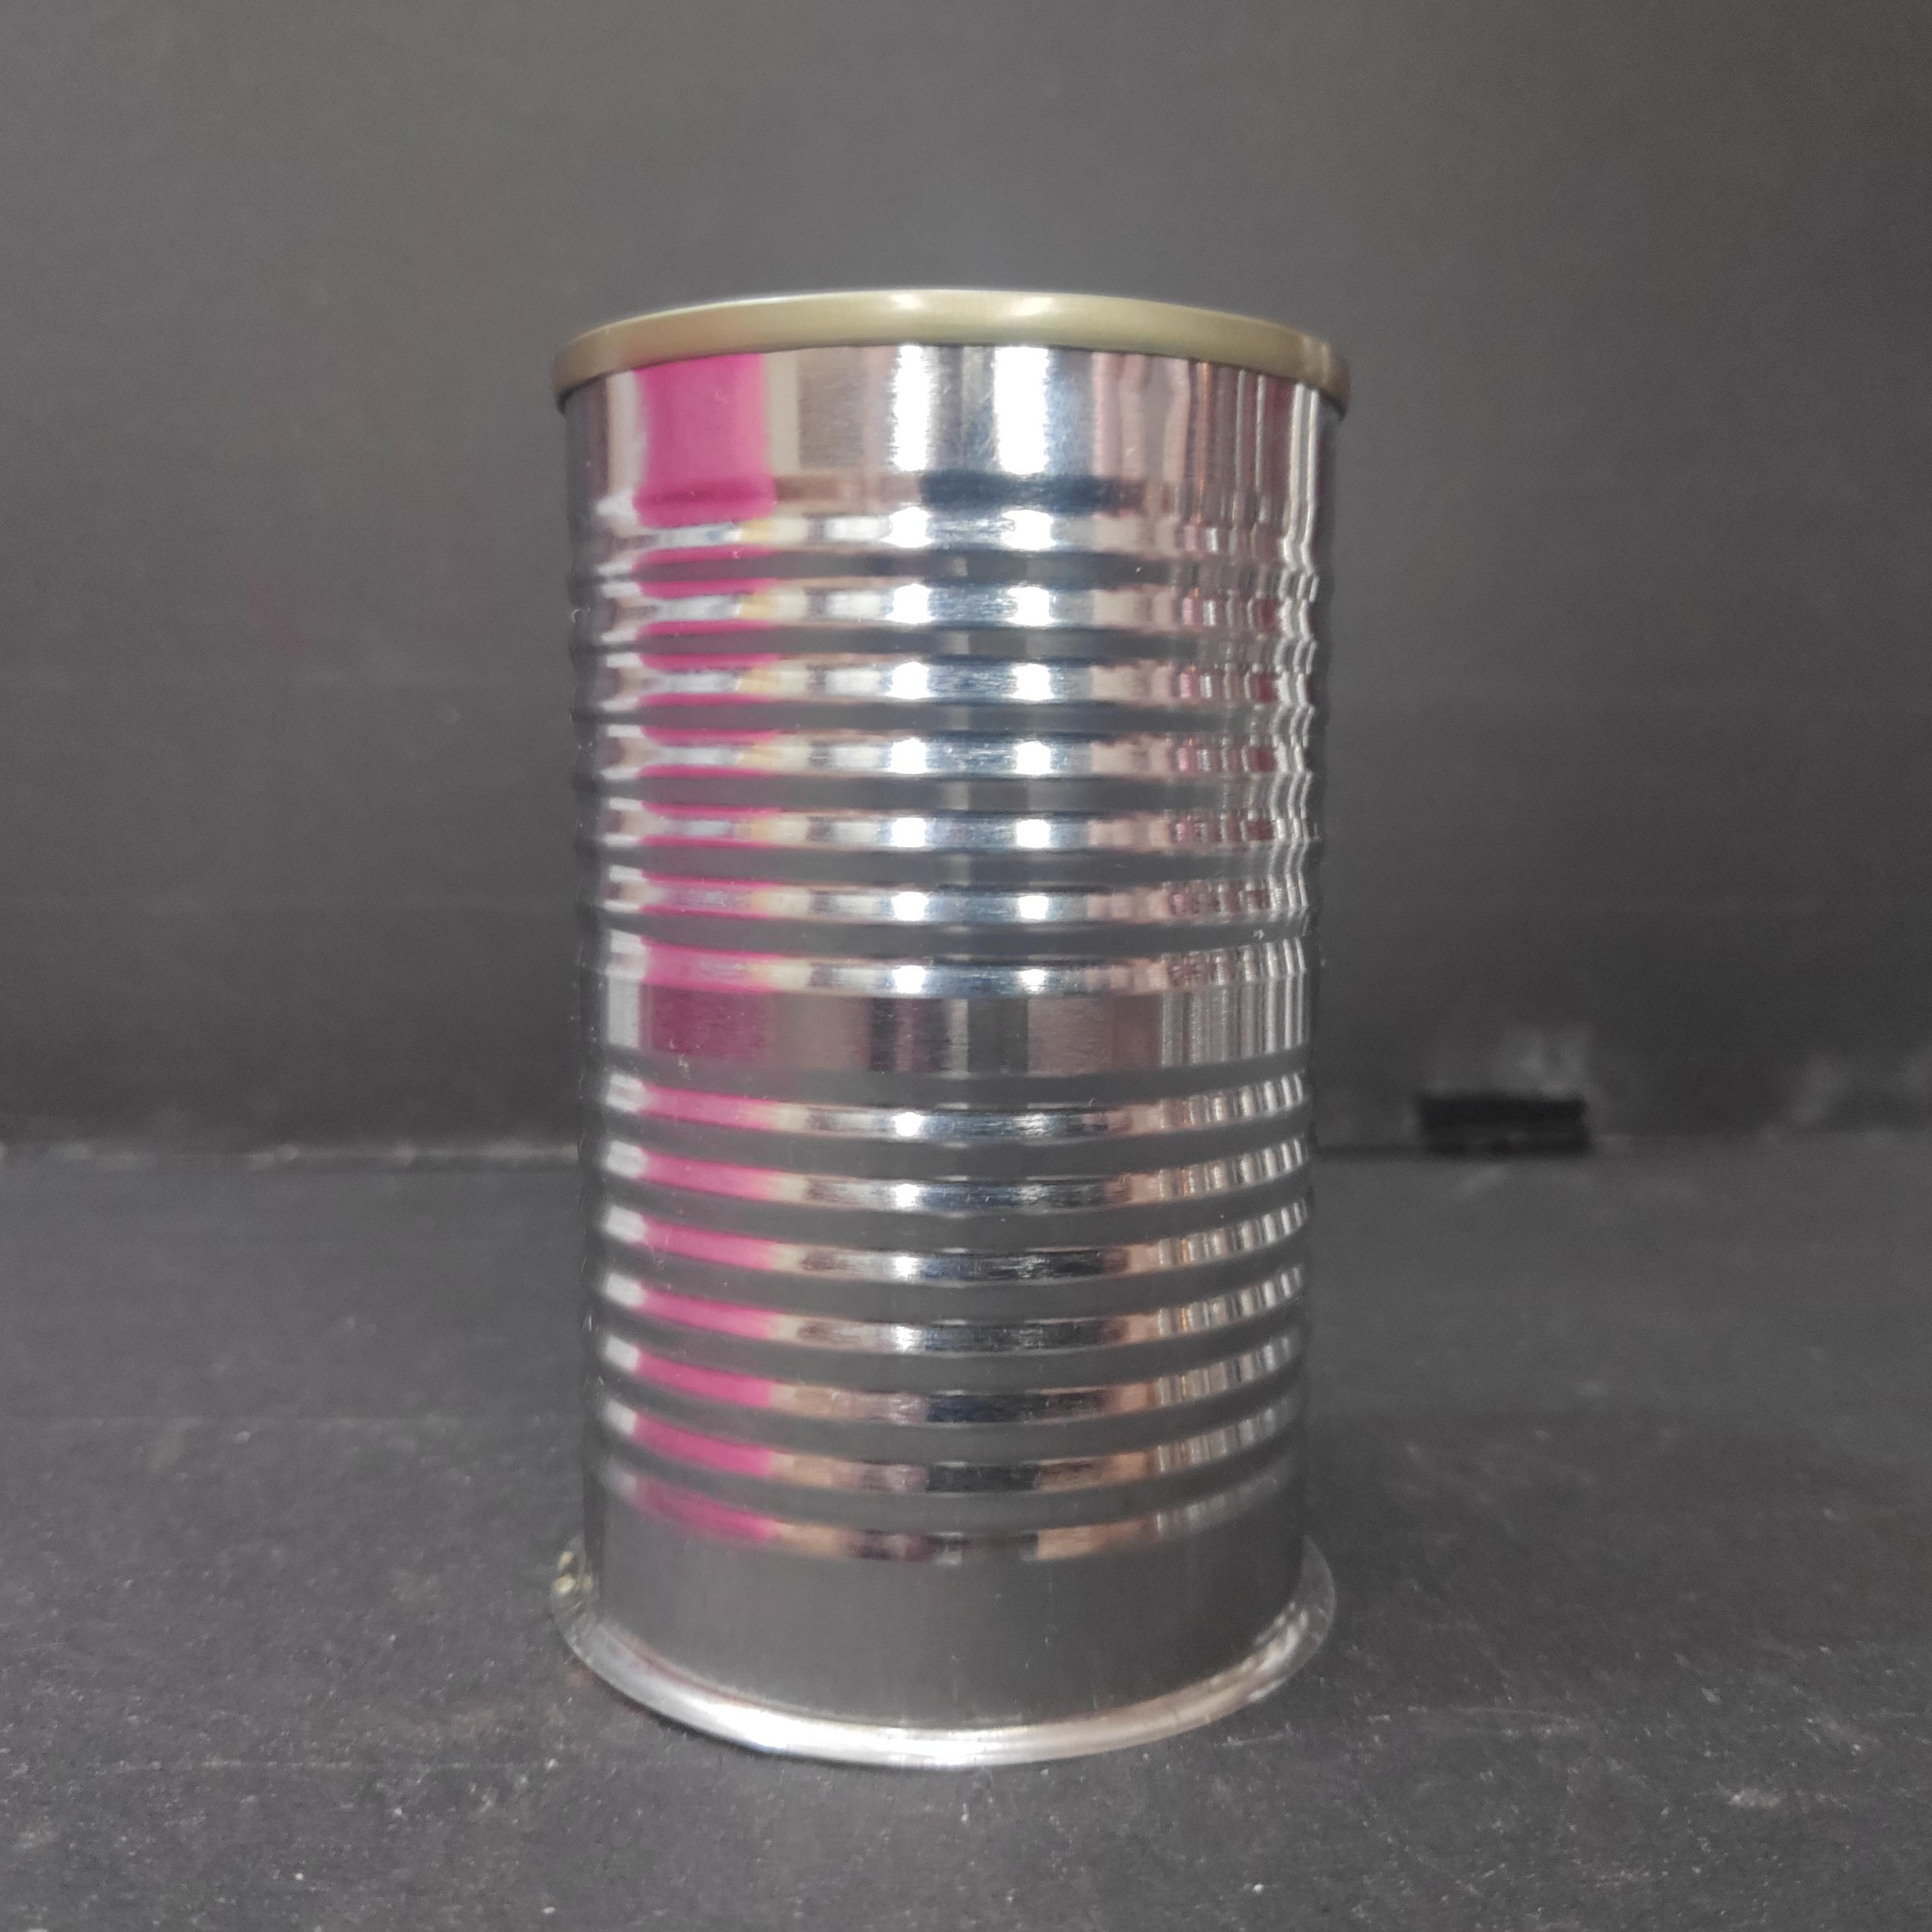No defect: (550, 287, 1353, 1770)
